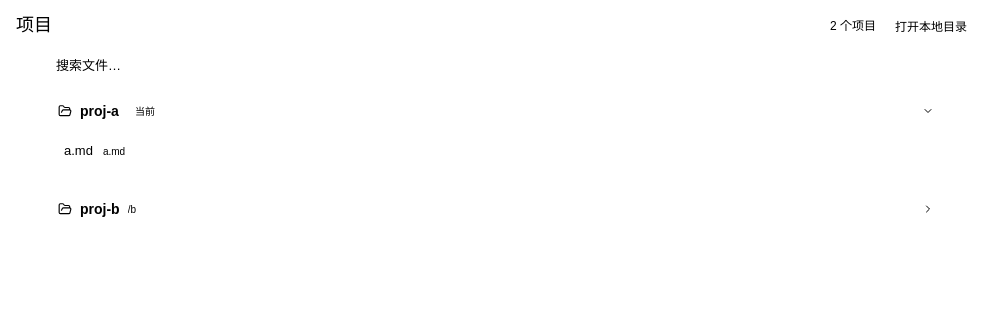
项目页渲染冒烟 › 组展开/收起：点击组头切换文件列表可见性
Click the button "proj-b /b" at {"x": 100, "y": 209}, box [46,191,946,227]
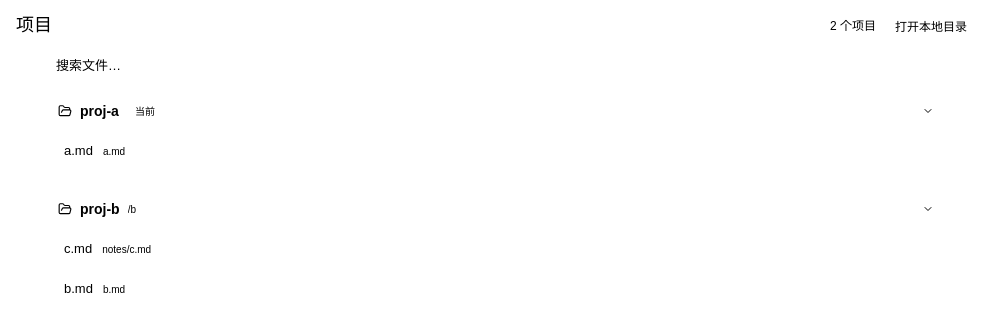
Expected: the button with aria-label "打开 b.md" is shown, [54,269,938,309]
Expected: the button with aria-label "打开 notes/c.md" is shown, [54,229,938,269]
